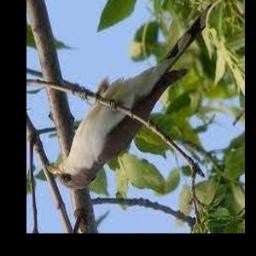Cuckoo: (46, 2, 218, 189)
